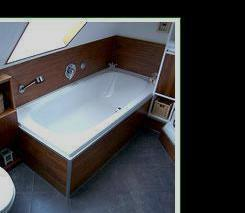Sanitario: (0, 140, 26, 213)
